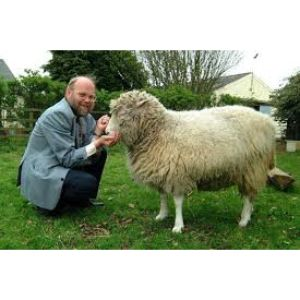sheep: (107, 88, 256, 237)
